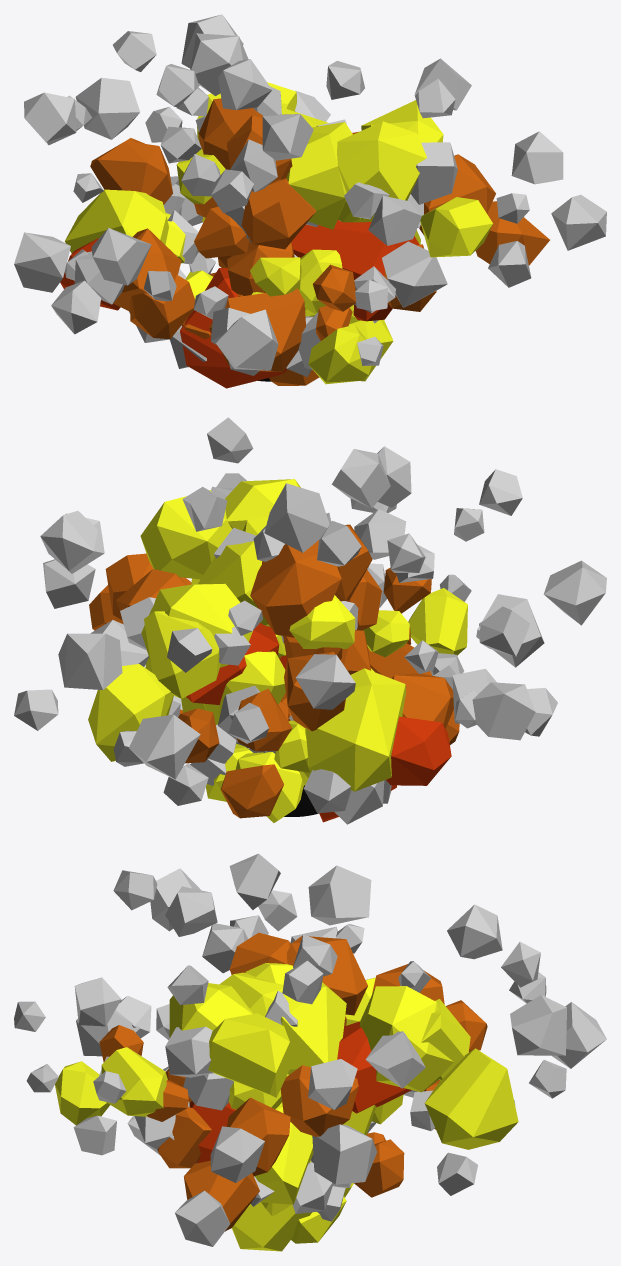
Rendered from Explosion0022.obj.
The picture shows the model from 3 angles, top to bottom: view 1: azimuth 30°, elevation 25°; view 2: azimuth 150°, elevation 25°; view 3: azimuth 270°, elevation 25°; orthographic projection. The views are drawn at different scales.
Visible parts, largest first — view 1: Cube_Material, Cube.001_Material.002, Cube.002_Material.003, Cube.003_Material.004; view 2: Cube_Material, Cube.002_Material.003, Cube.001_Material.002, Cube.003_Material.004; view 3: Cube_Material, Cube.002_Material.003, Cube.001_Material.002, Cube.003_Material.004.
Part boxes in pixels (box(x1,y1,x2,y2)): Cube_Material: box(14, 14, 606, 376); Cube.001_Material.002: box(90, 98, 549, 385); Cube.002_Material.003: box(65, 82, 492, 384); Cube.003_Material.004: box(60, 220, 419, 388); Cube_Material: box(14, 417, 606, 824); Cube.002_Material.003: box(88, 479, 467, 822); Cube.001_Material.002: box(89, 524, 459, 818); Cube.003_Material.004: box(186, 623, 451, 822); Cube_Material: box(14, 853, 606, 1246); Cube.002_Material.003: box(55, 963, 518, 1251); Cube.001_Material.002: box(99, 932, 487, 1231); Cube.003_Material.004: box(189, 1021, 411, 1163).
Size of the model in its own units: 12.99 by 8.05 by 12.73.
